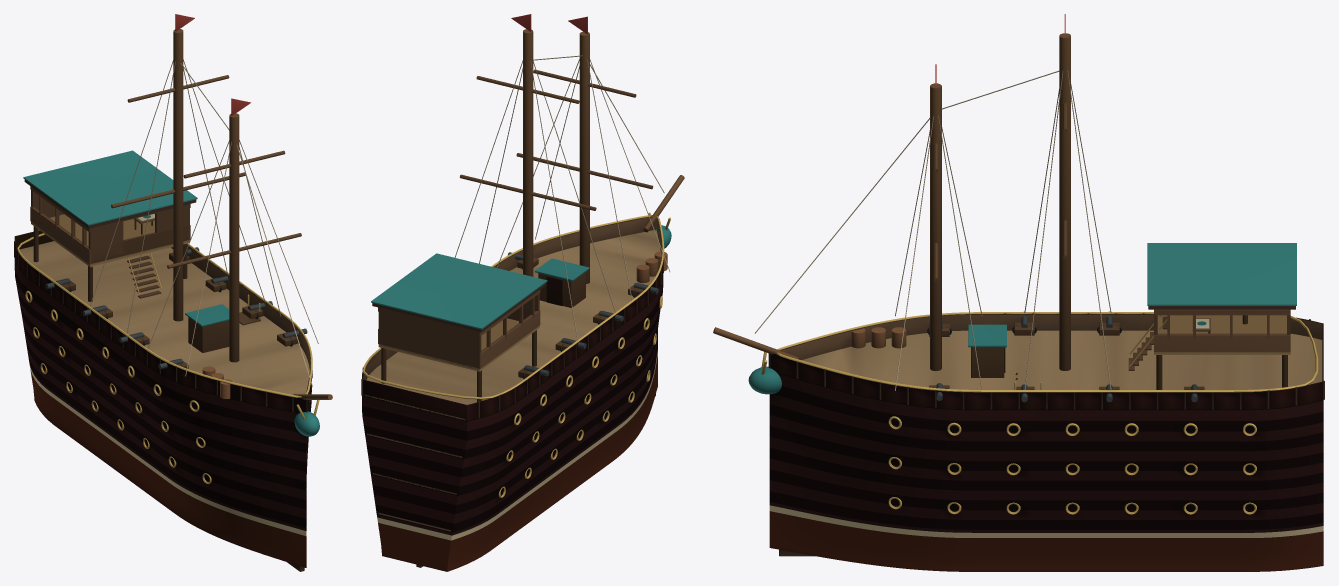
The model's file is warship.glb.
The picture shows the model from 3 angles, left to right: view 1: azimuth 30°, elevation 25°; view 2: azimuth 150°, elevation 25°; view 3: azimuth 270°, elevation 25°; orthographic projection. The views are drawn at different scales.
Visible parts, largest first — view 1: band-3, band-2, keel, band-1, cab, band-0, band-4; view 2: band-3, cab, band-2, keel, band-1, band-0, band-4; view 3: band-3, keel, band-2, band-1, band-0, cab, band-4.
Boxes of the visible parts, left/top/right/bottom form: band-3: left=14, top=14, right=332, bottom=436; band-2: left=14, top=258, right=311, bottom=451; keel: left=29, top=362, right=306, bottom=571; band-1: left=18, top=295, right=308, bottom=489; cab: left=23, top=150, right=197, bottom=260; band-0: left=23, top=327, right=306, bottom=527; band-4: left=30, top=186, right=190, bottom=301; band-3: left=361, top=14, right=684, bottom=420; cab: left=371, top=253, right=547, bottom=368; band-2: left=362, top=273, right=663, bottom=458; keel: left=376, top=347, right=657, bottom=571; band-1: left=365, top=313, right=659, bottom=495; band-0: left=371, top=331, right=657, bottom=531; band-4: left=378, top=290, right=540, bottom=402; band-3: left=713, top=14, right=1324, bottom=409; keel: left=769, top=501, right=1323, bottom=571; band-2: left=769, top=372, right=1323, bottom=450; band-1: left=769, top=414, right=1323, bottom=489; band-0: left=769, top=457, right=1323, bottom=528; cab: left=1147, top=243, right=1296, bottom=334; band-4: left=1154, top=309, right=1290, bottom=389.
Size of the model in its own units: 10.9 by 32.25 by 33.13.
